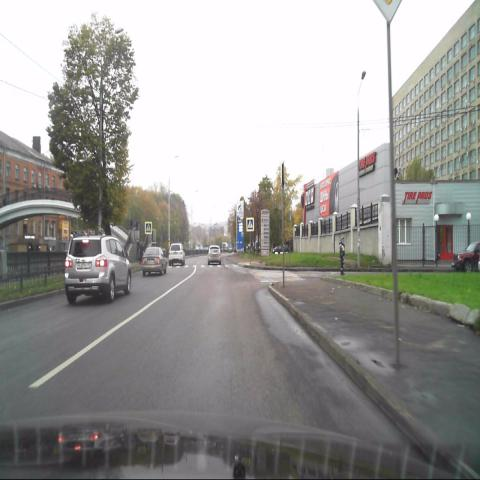5_19_1: (246, 217, 254, 231), (145, 221, 152, 234)
